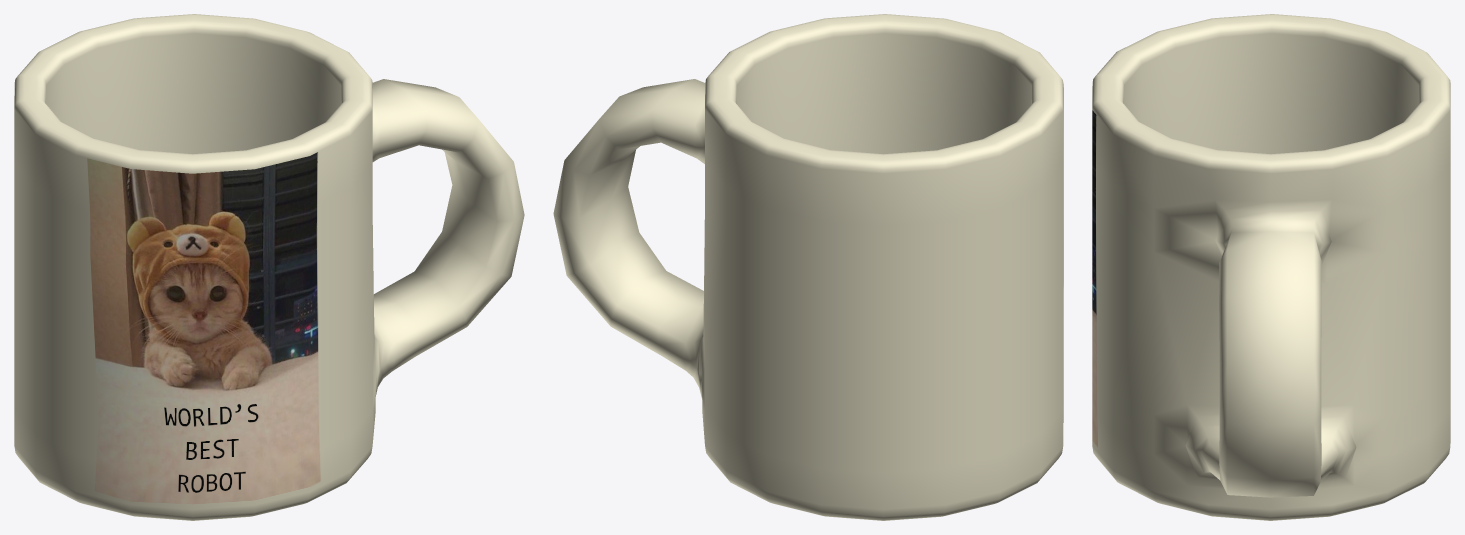
Rendered from MugRobot.fbx.
The picture shows the model from 3 angles, left to right: view 1: azimuth 30°, elevation 25°; view 2: azimuth 150°, elevation 25°; view 3: azimuth 270°, elevation 25°; orthographic projection.
Visible parts, largest first — view 1: Caneca; view 2: Caneca; view 3: Caneca.
Part boxes in pixels (<box>): Caneca: <box>14,14,524,520</box>; Caneca: <box>553,14,1063,520</box>; Caneca: <box>1092,14,1450,520</box>.
Bounding box in the file's own units: 82.93 × 61.25 × 54.71.
